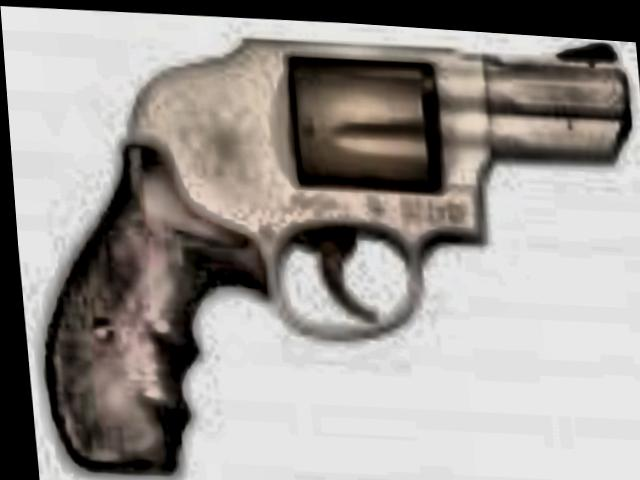pistol: (0, 2, 640, 480)
